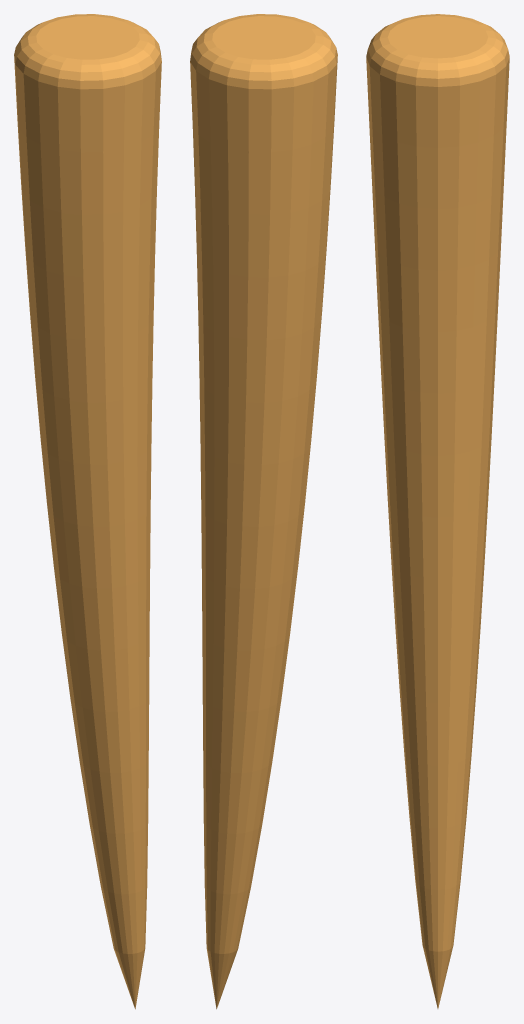
File: carrot_v22.glb
The picture shows the model from 3 angles, left to right: view 1: azimuth 30°, elevation 25°; view 2: azimuth 150°, elevation 25°; view 3: azimuth 270°, elevation 25°; orthographic projection. The views are drawn at different scales.
Parts seen in each view (by area): view 1: root; view 2: root; view 3: root.
Boxes of the visible parts, left/top/right/bottom form: root: left=14, top=14, right=161, bottom=1009; root: left=190, top=14, right=337, bottom=1009; root: left=366, top=14, right=509, bottom=1008.
Bounding box in the file's own units: 0.0271 × 0.1979 × 0.0271.
